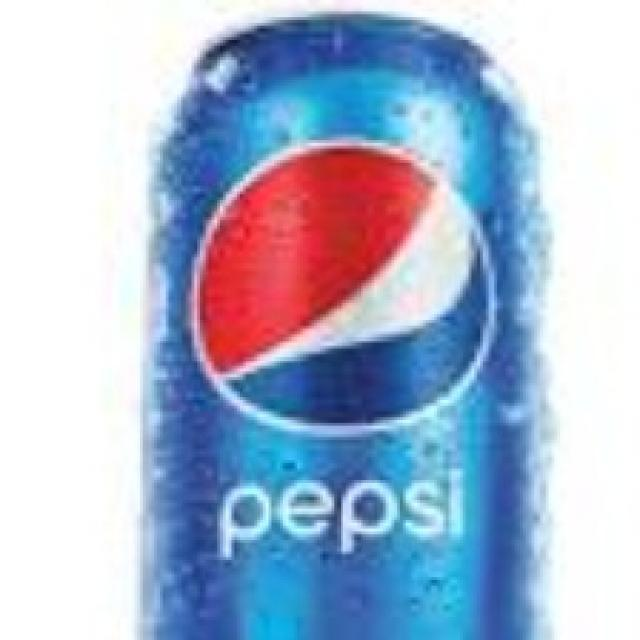metel: (133, 28, 552, 640)
